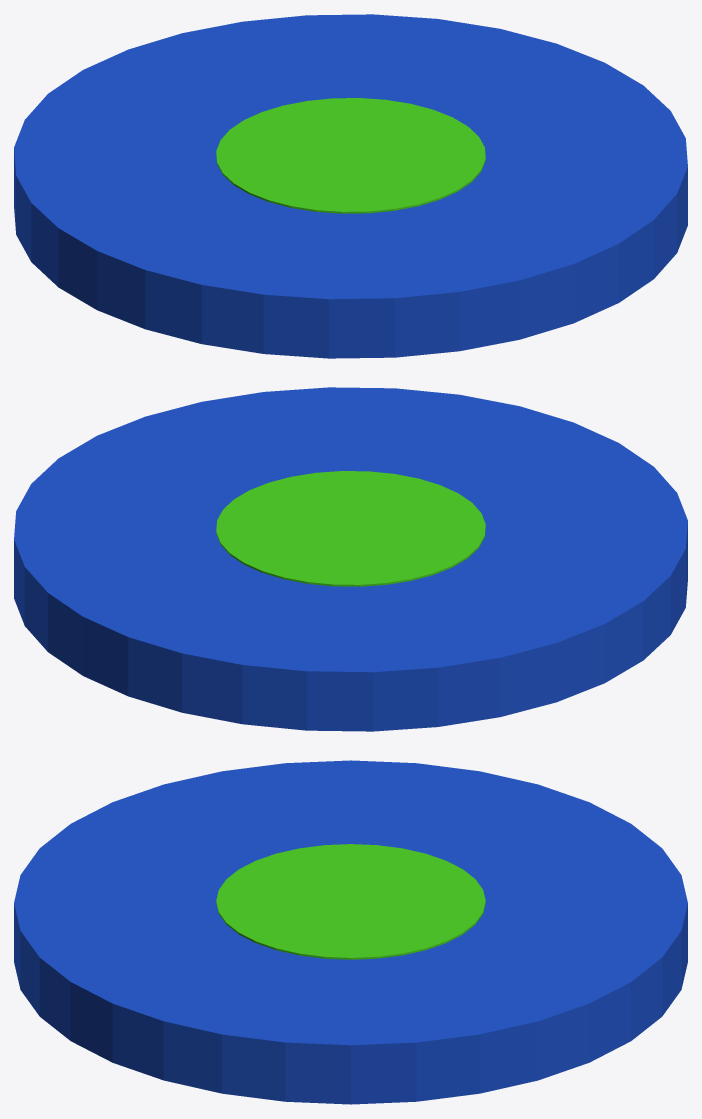
The model's file is platform.dae.
The picture shows the model from 3 angles, top to bottom: view 1: azimuth 30°, elevation 25°; view 2: azimuth 150°, elevation 25°; view 3: azimuth 270°, elevation 25°; orthographic projection.
Visible parts, largest first — view 1: Platform; view 2: Platform; view 3: Platform.
Part boxes in pixels (<box>): Platform: <box>14,14,687,358</box>; Platform: <box>14,387,687,731</box>; Platform: <box>14,760,687,1104</box>.
Bounding box in the file's own units: 1 × 1 × 0.1.
